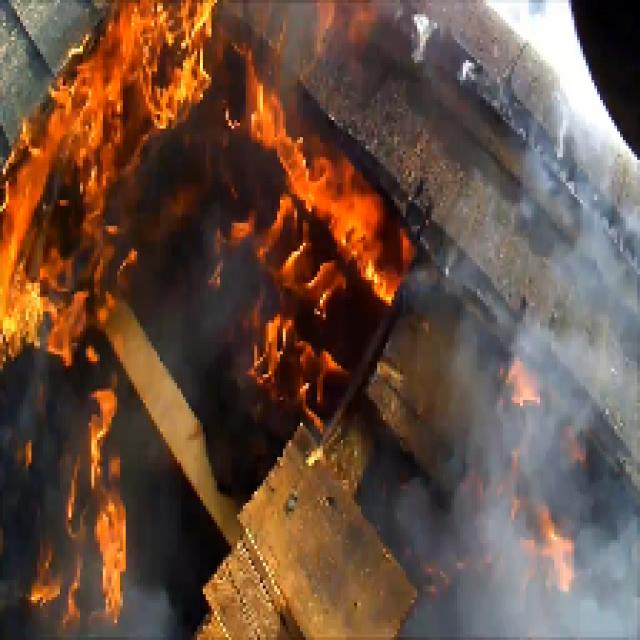fire: (0, 0, 217, 357), (239, 90, 402, 407), (24, 396, 141, 624)
smoke: (428, 460, 640, 640)
